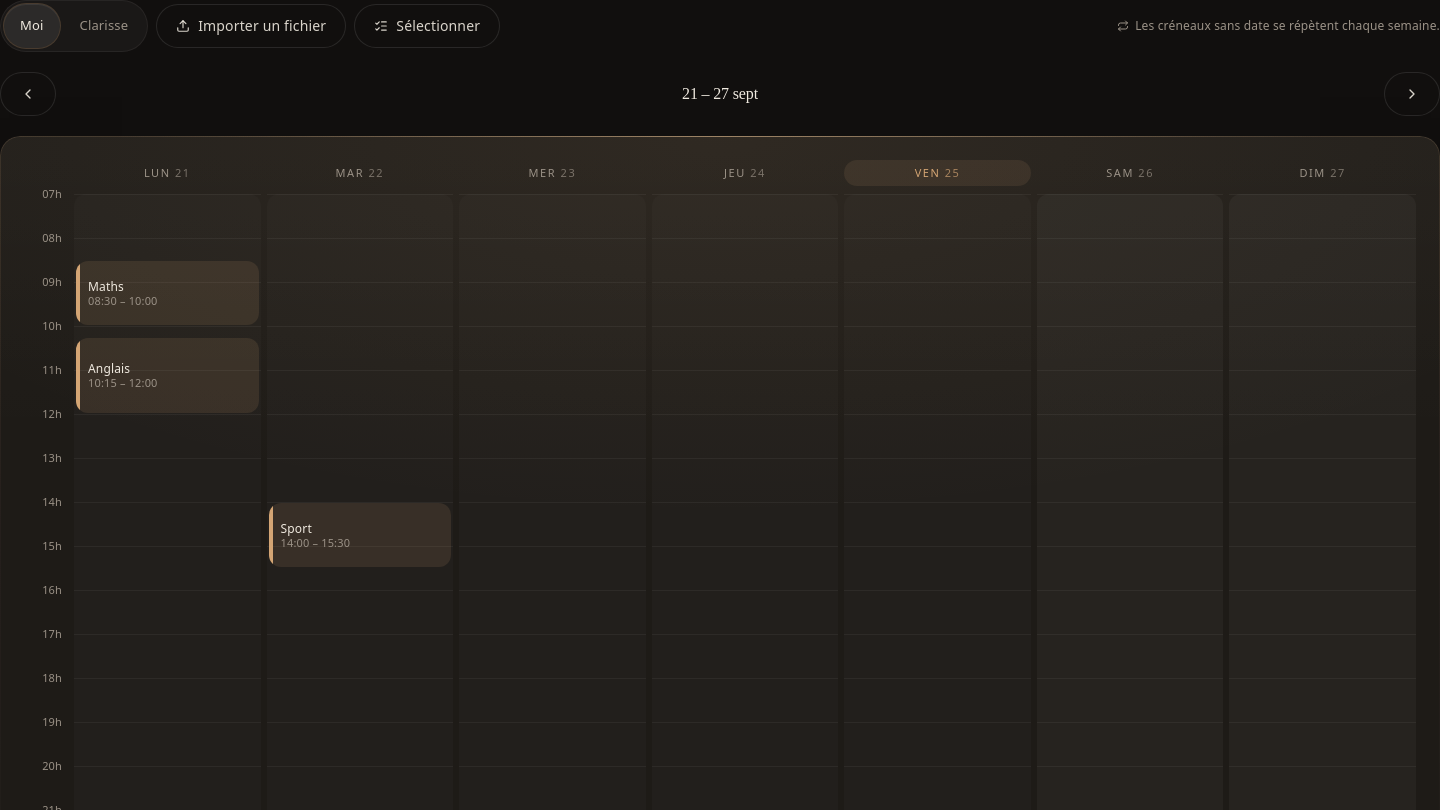
Emploi du temps — mode sélection et suppression multiple › remet la sélection à zéro quand on quitte le mode
The width and height of the screenshot is (1440, 810).
Click the button "Sélectionner": point(427, 26) [354,4,500,48]
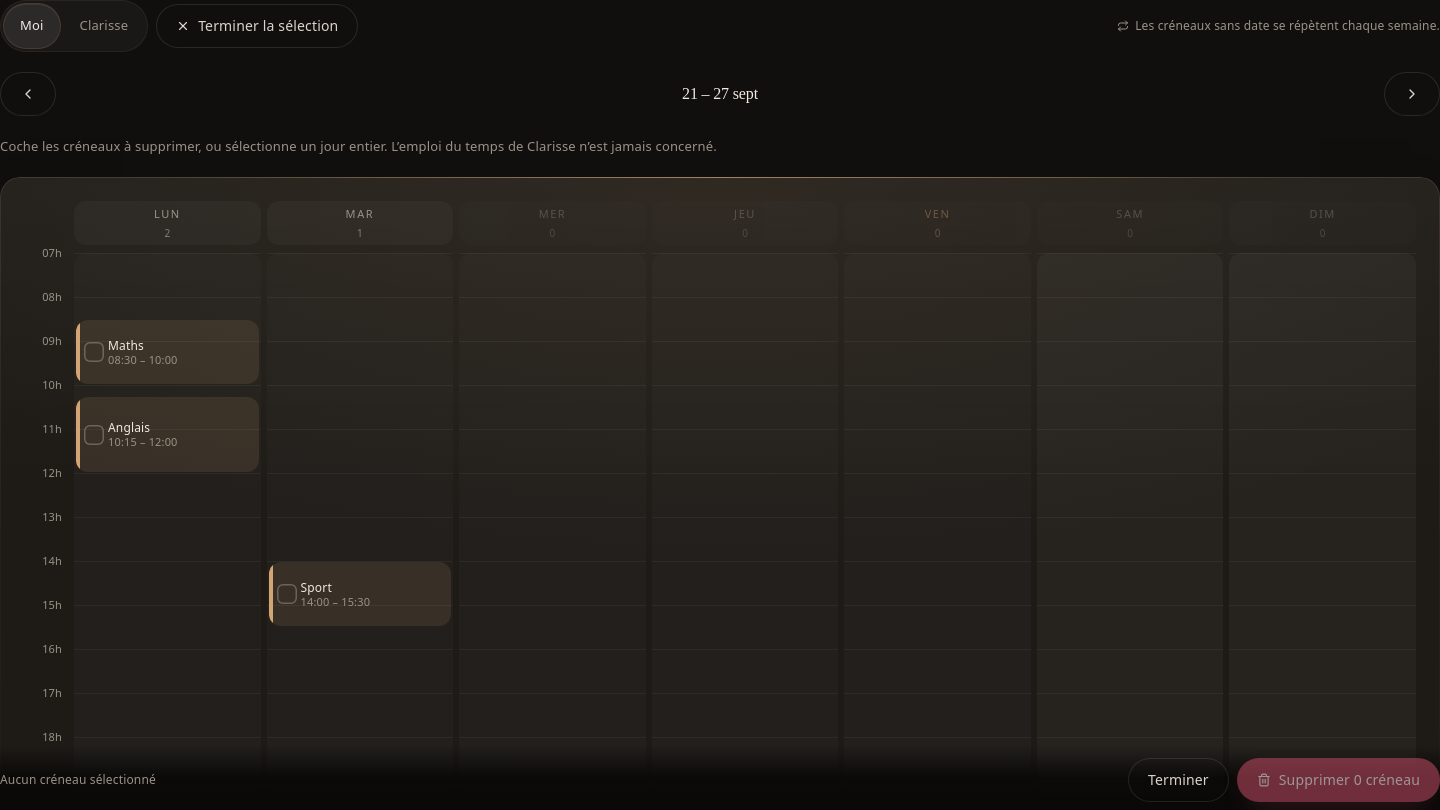
Click the checkbox named "Sélectionner Maths": point(167, 352) [76,320,259,384]
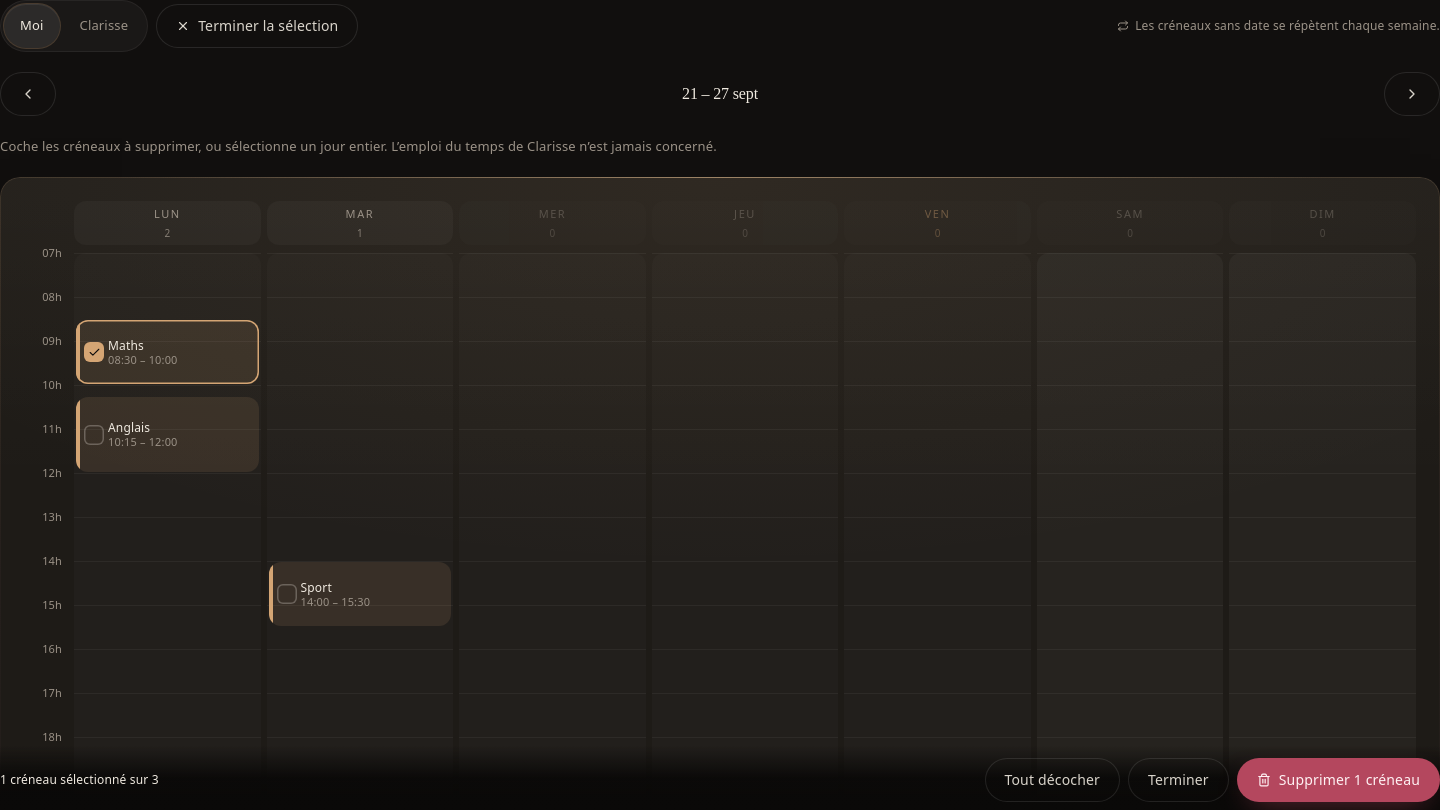
Now the text "1 créneau sélectionné sur 3" is shown, box [0,771,159,788]
Click the button "Terminer": point(1178, 780) [1128,758,1229,802]
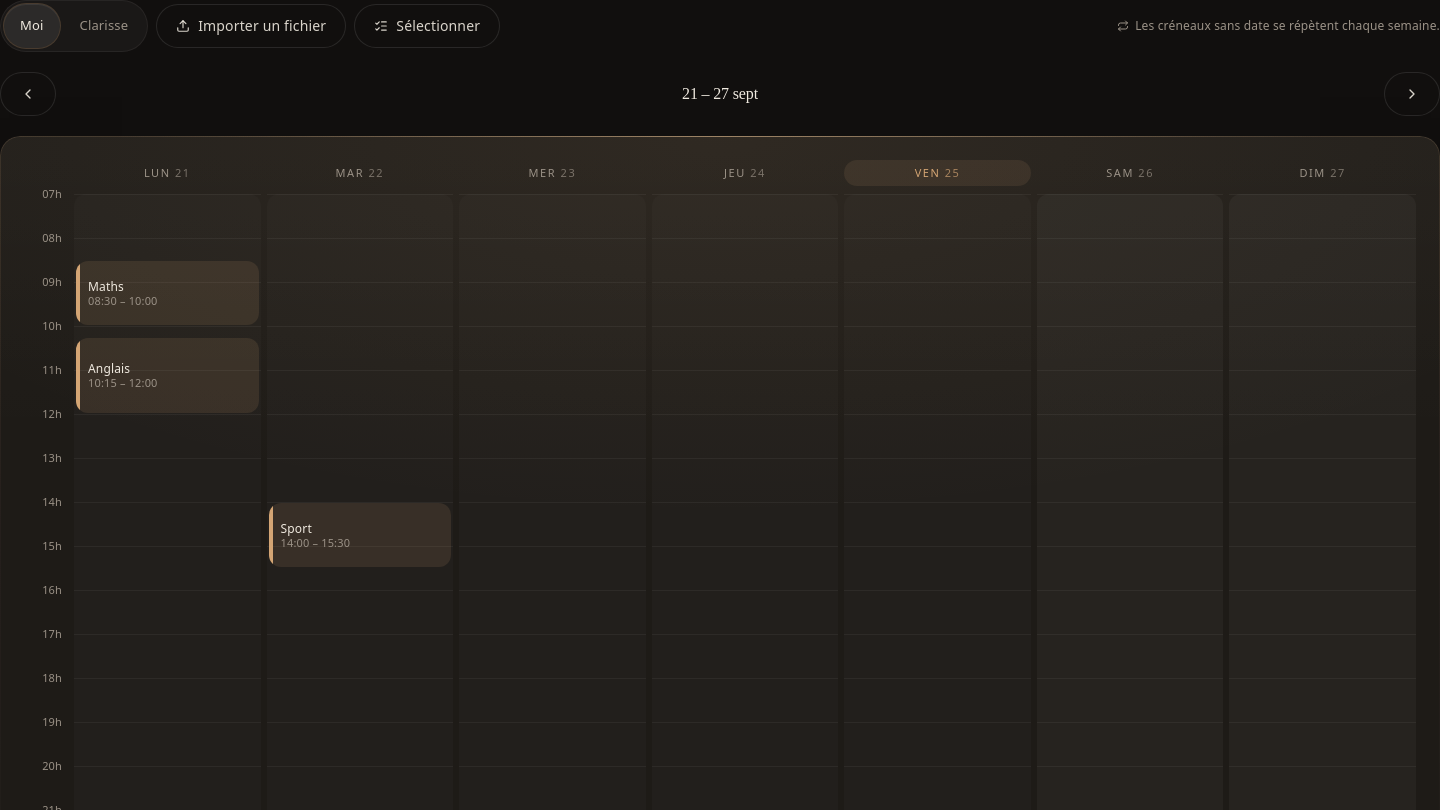
Click the button "Sélectionner": point(427, 26) [354,4,500,48]
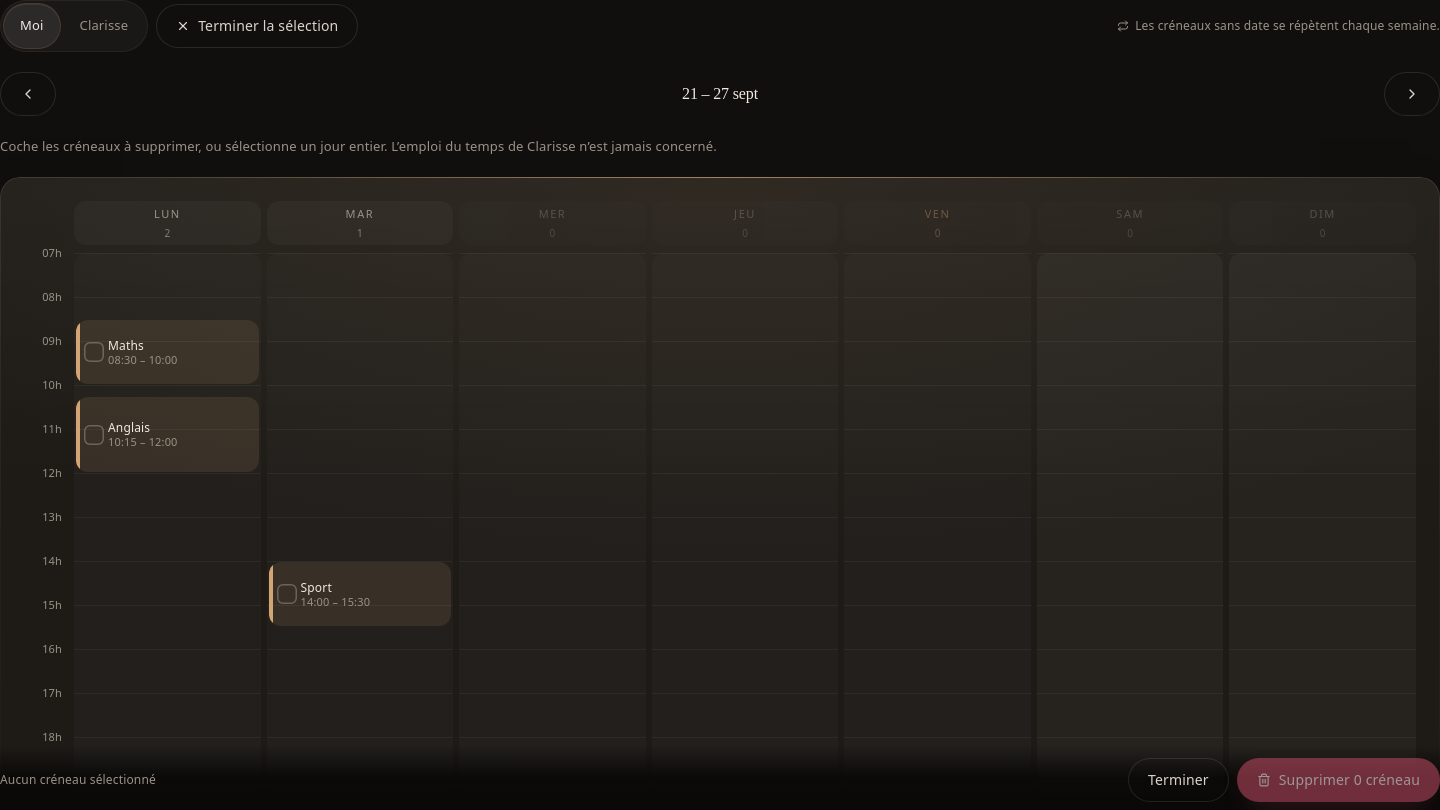
Now the text "Aucun créneau sélectionné" is shown, box [0,771,156,788]
Now the button "Supprimer 0 créneau" is disabled, box [1237,758,1439,802]
